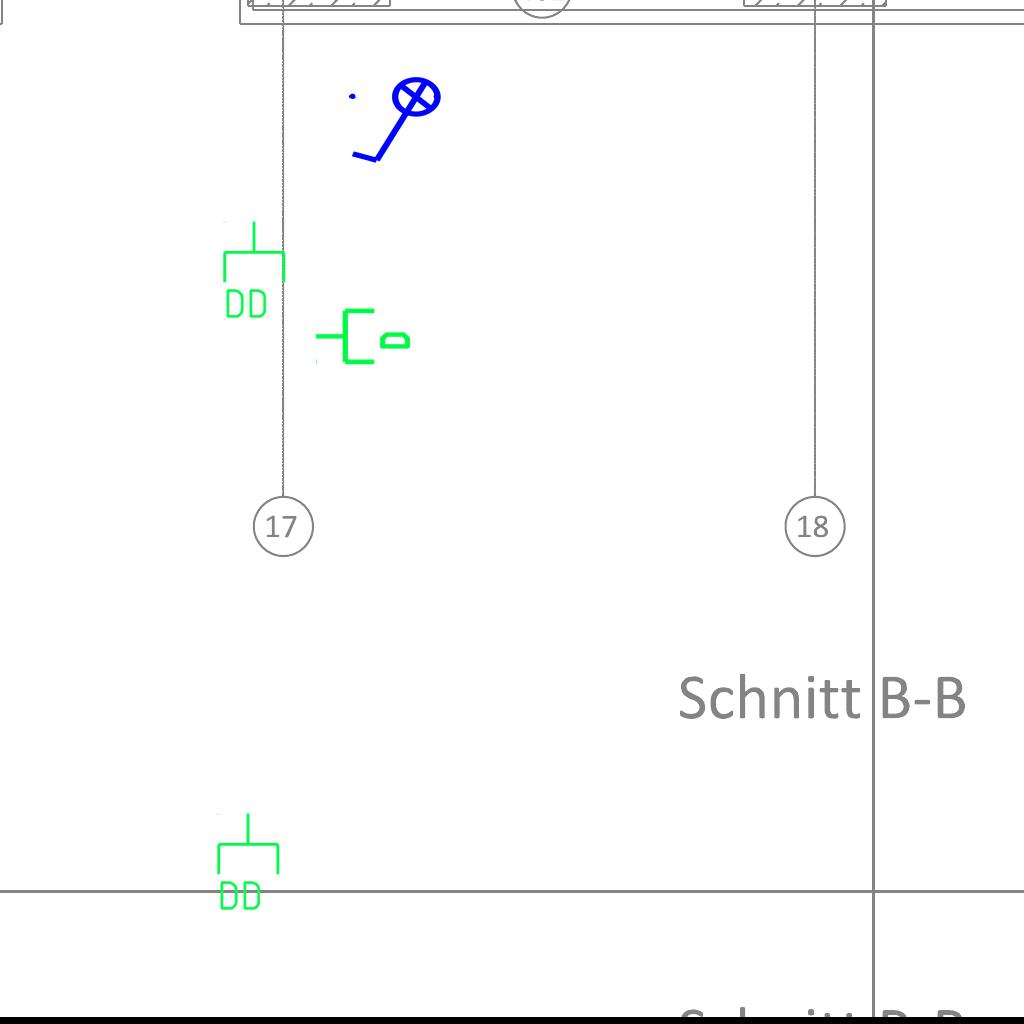Ausschalter_beleuchtet: (343, 75, 455, 171)
Datenanschluss_einfach: (313, 300, 413, 369)
Datenanschluss_zweifach: (219, 219, 288, 322), (213, 811, 282, 914)
